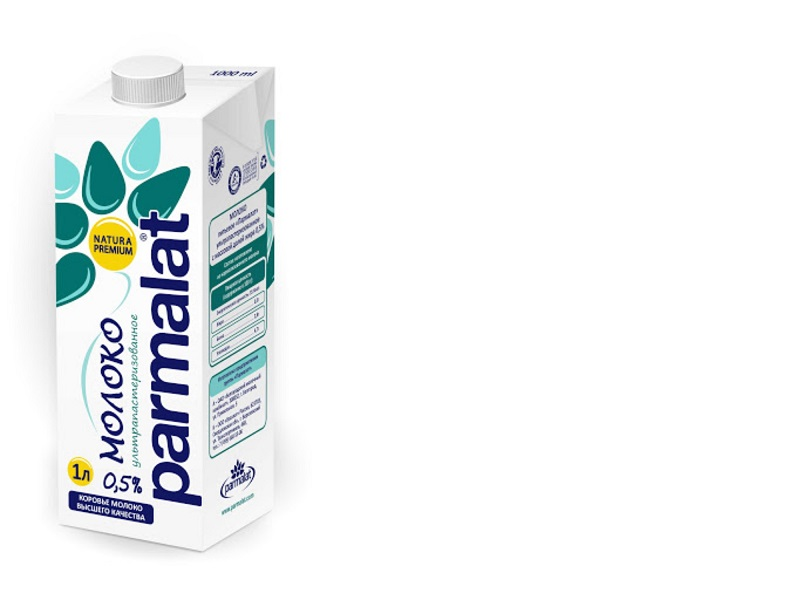milk: (19, 48, 331, 572)
